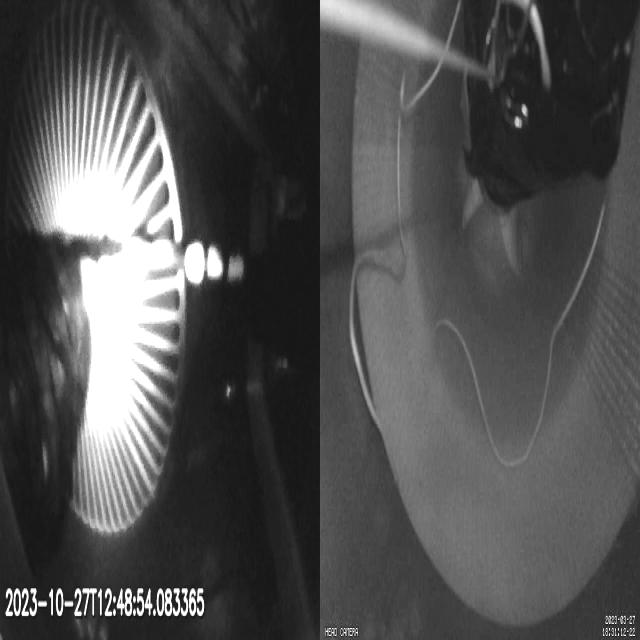white-dots: (183, 240, 244, 288)
